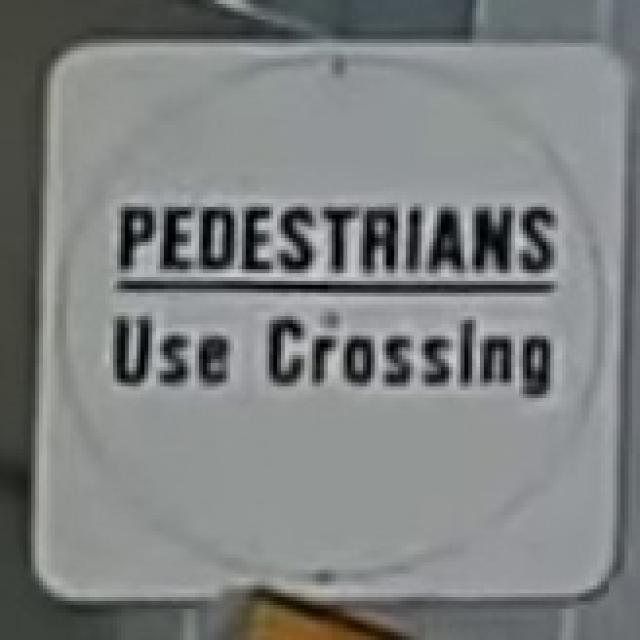pedestriancrossing_sign: (24, 31, 634, 605)
